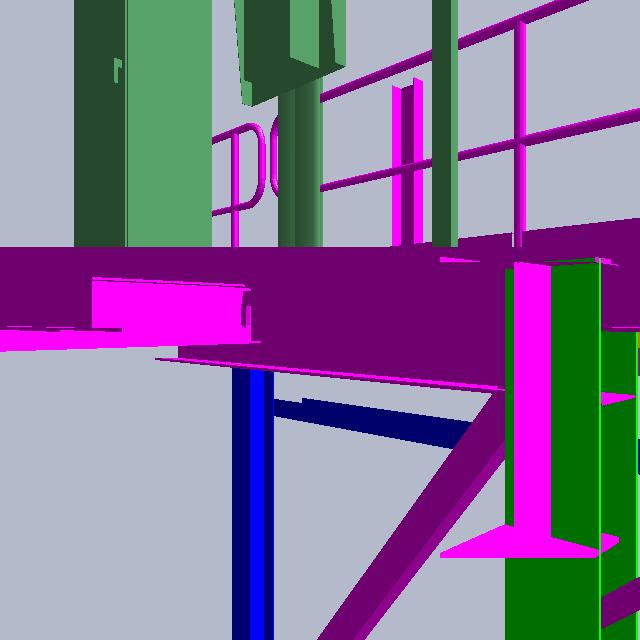Gabinete: (226, 1, 357, 265)
Soporte: (376, 72, 432, 263)
